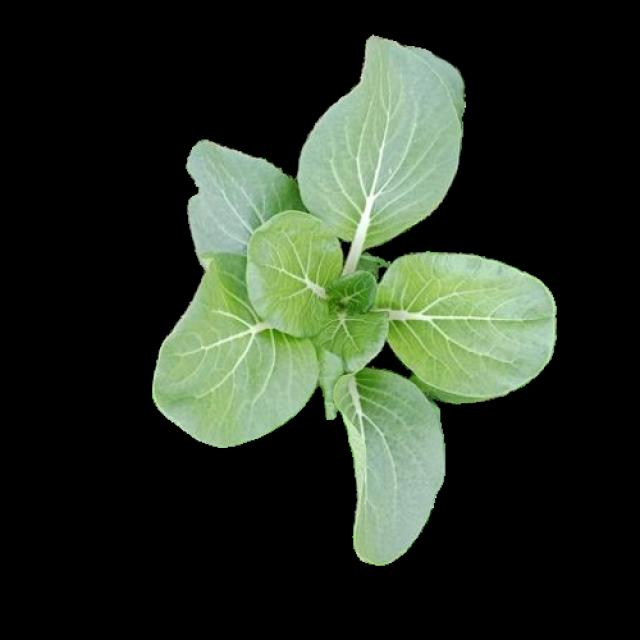healthy: (163, 46, 553, 563)
not-mature: (154, 33, 556, 566)
